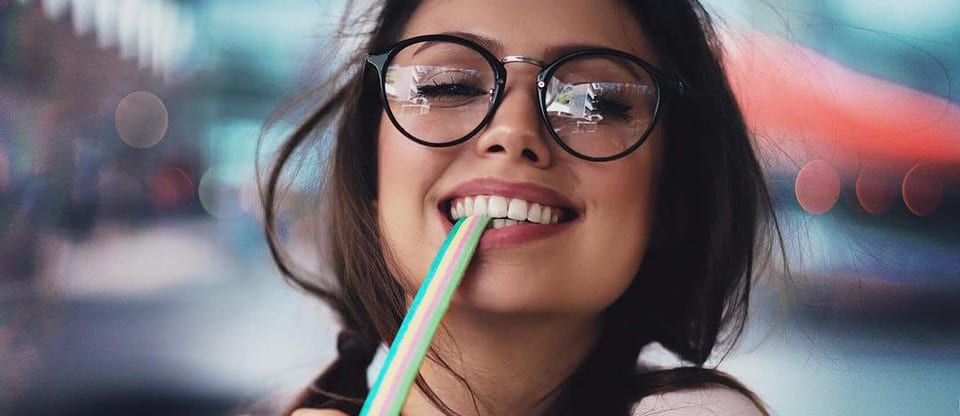without_mask: (370, 6, 661, 321)
